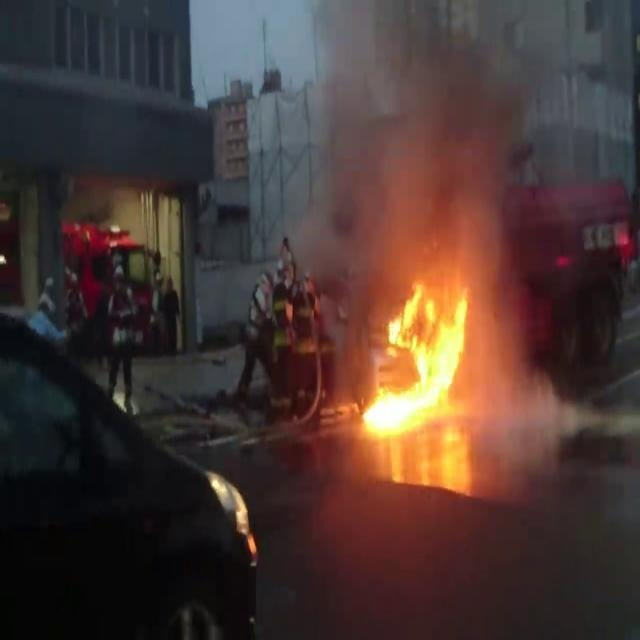Fire: (358, 290, 476, 430), (382, 341, 397, 359), (425, 296, 434, 316), (398, 310, 402, 326)
Smoke: (290, 8, 590, 441), (432, 20, 549, 176), (303, 9, 396, 119), (553, 389, 590, 434)
